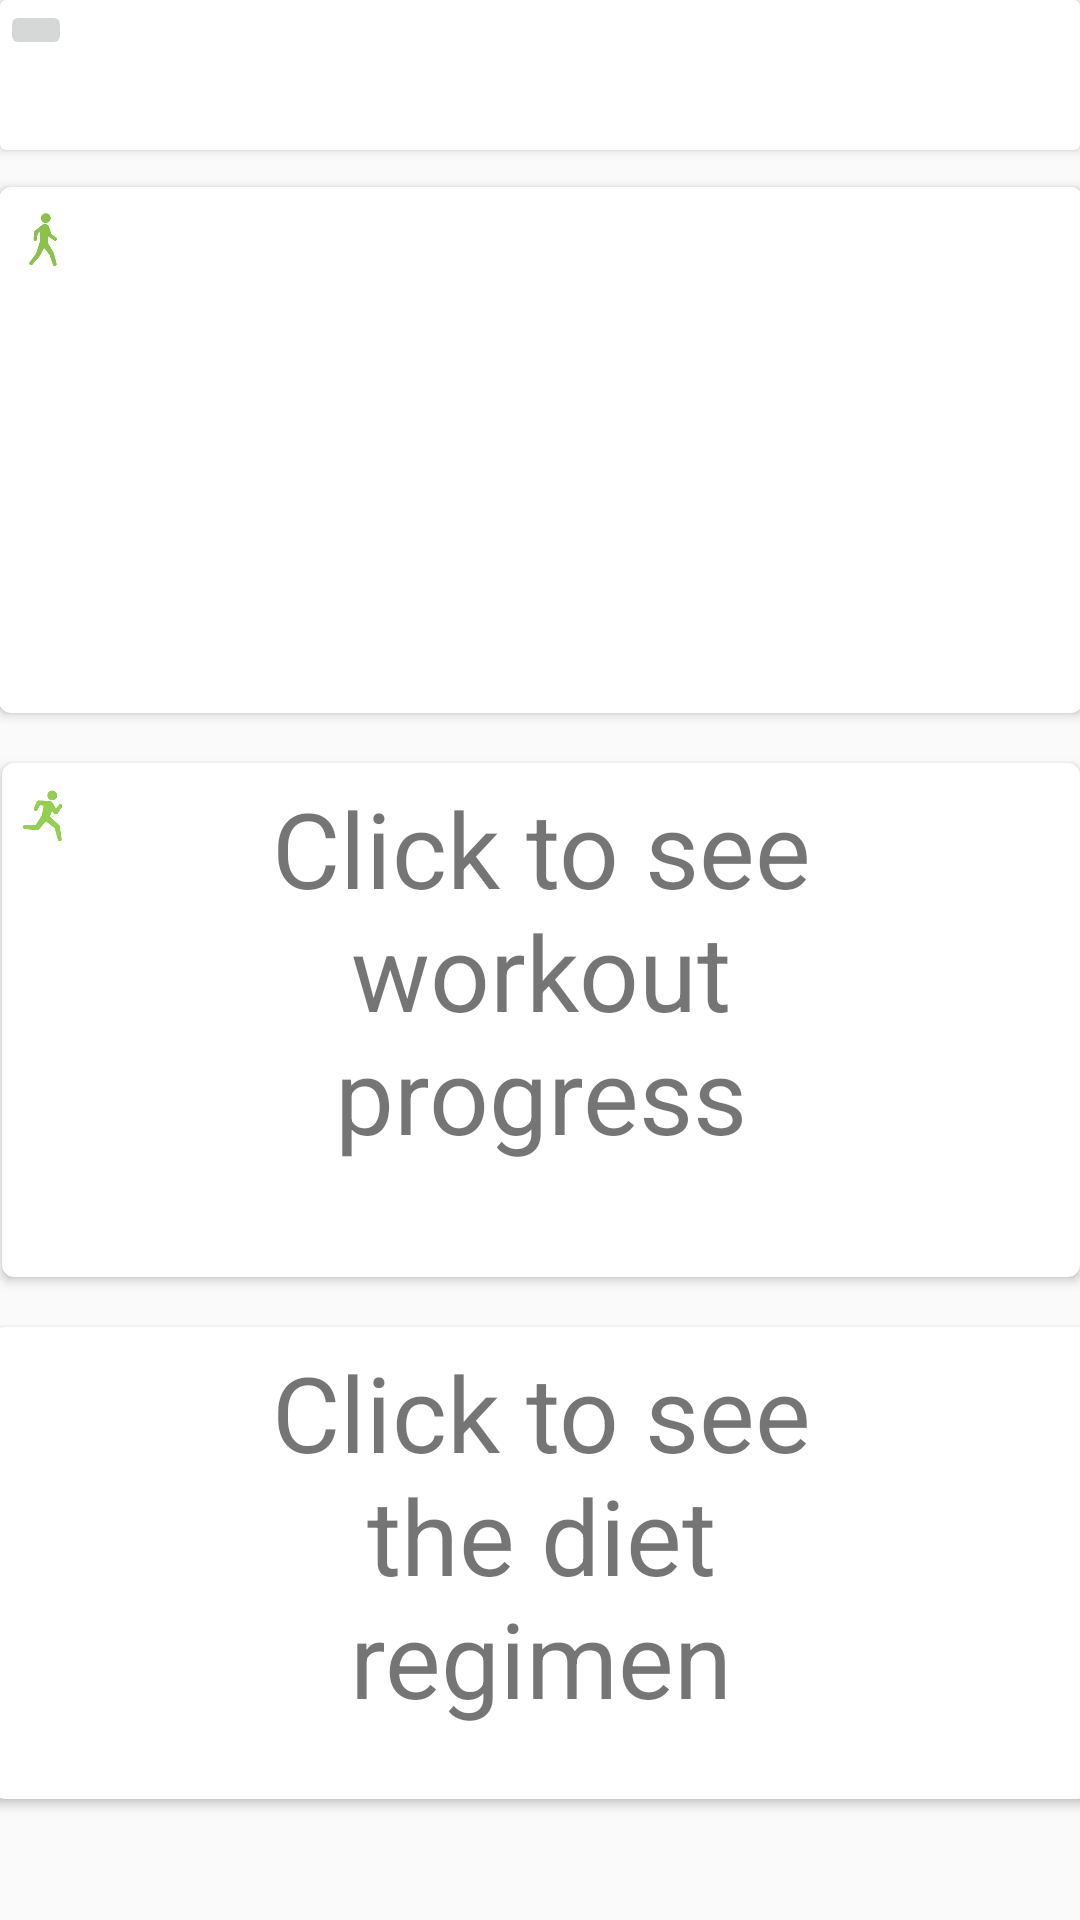

Icon click points for this 1080×1920 phone screenshot, format (x=x, y=y):
running: (x=42, y=815)
walking: (x=43, y=239)
